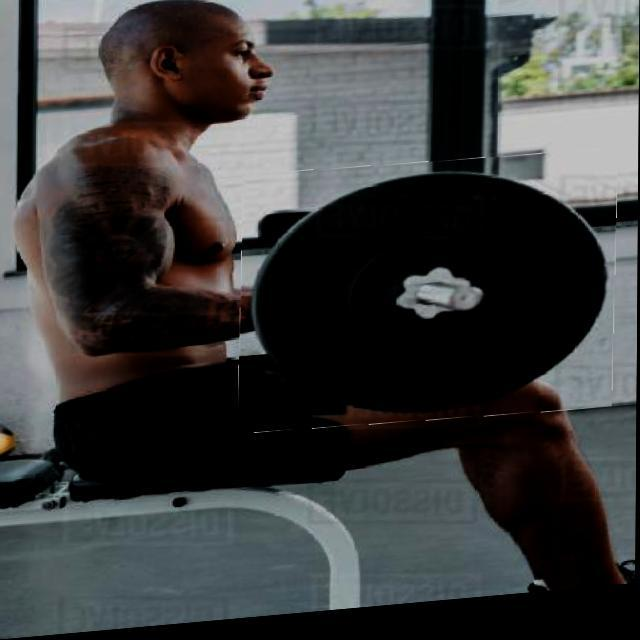barbell: (240, 156, 618, 444)
